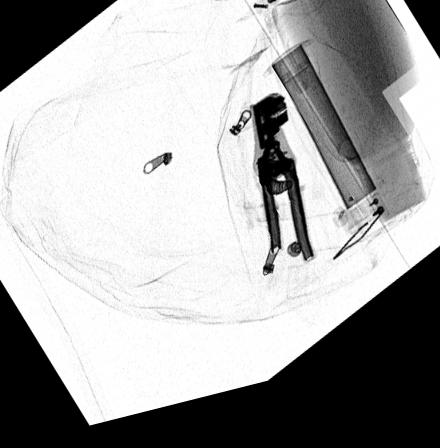Pliers: (251, 108, 314, 278)
